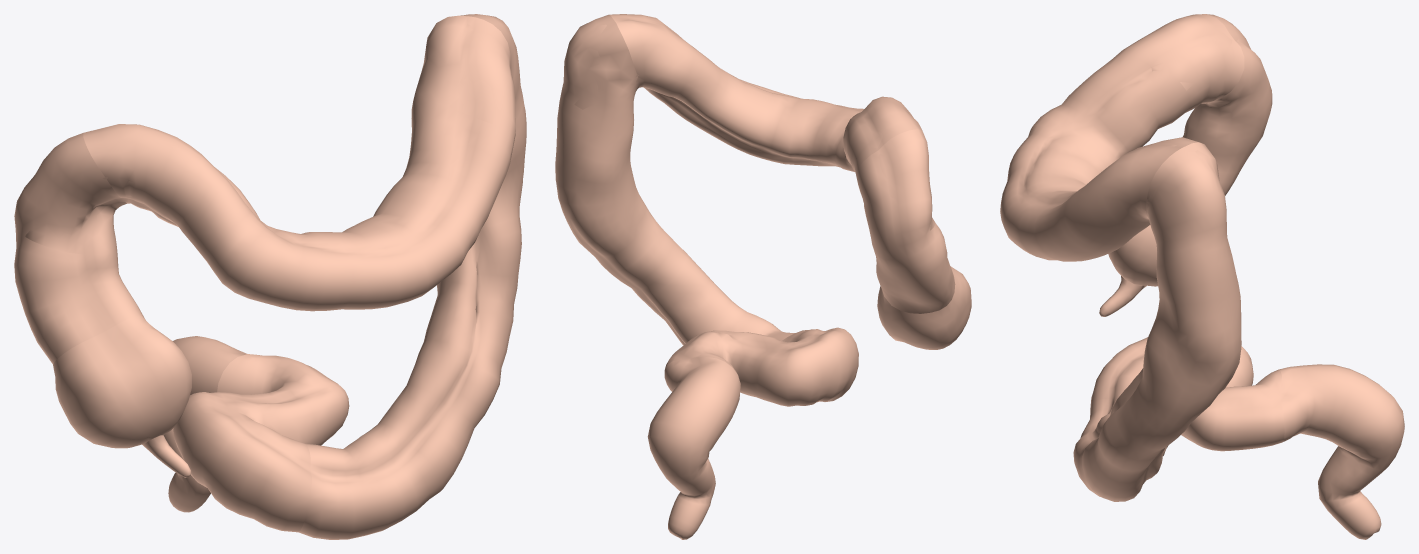
Rendered from SBU_F_Intestine_Large.glb.
3 views of the same model, side by side, from view 1: azimuth 30°, elevation 25°; view 2: azimuth 150°, elevation 25°; view 3: azimuth 270°, elevation 25° (orthographic). The views are drawn at different scales.
Visible parts, largest first — view 1: VHF_transverse_colon, VHF_descending_colon, VHF_sigmoid_colon, VHF_ascending_colon, VHF_caecum, VHF_rectum, VHF_hepatic_flexture_of_colon, VHF_splenic_flexure_of_colon, VHF_vermiform_appendix; view 2: VHF_descending_colon, VHF_transverse_colon, VHF_ascending_colon, VHF_rectum, VHF_sigmoid_colon, VHF_caecum, VHF_splenic_flexure_of_colon, VHF_hepatic_flexture_of_colon; view 3: VHF_transverse_colon, VHF_descending_colon, VHF_rectum, VHF_sigmoid_colon, VHF_ascending_colon, VHF_caecum, VHF_vermiform_appendix, VHF_hepatic_flexture_of_colon, VHF_splenic_flexure_of_colon.
Part boxes in pixels (x1,y1,x2,y2): VHF_transverse_colon: (83, 15, 515, 311); VHF_descending_colon: (298, 14, 526, 539); VHF_sigmoid_colon: (173, 354, 349, 532); VHF_ascending_colon: (14, 133, 144, 363); VHF_caecum: (53, 315, 191, 448); VHF_rectum: (163, 336, 246, 512); VHF_hepatic_flexture_of_colon: (25, 167, 170, 254); VHF_splenic_flexure_of_colon: (435, 14, 520, 123); VHF_vermiform_appendix: (142, 435, 190, 477); VHF_descending_colon: (555, 14, 794, 345); VHF_transverse_colon: (609, 14, 922, 172); VHF_ascending_colon: (855, 129, 955, 313); VHF_rectum: (647, 357, 740, 539); VHF_sigmoid_colon: (665, 327, 858, 406); VHF_caecum: (877, 266, 971, 349); VHF_splenic_flexure_of_colon: (574, 17, 682, 109); VHF_hepatic_flexture_of_colon: (843, 113, 935, 230); VHF_transverse_colon: (1000, 14, 1244, 261); VHF_descending_colon: (1073, 142, 1241, 501); VHF_rectum: (1278, 364, 1404, 539); VHF_sigmoid_colon: (1090, 337, 1284, 451); VHF_ascending_colon: (1182, 14, 1272, 195); VHF_caecum: (1108, 225, 1157, 286); VHF_vermiform_appendix: (1099, 276, 1146, 316); VHF_hepatic_flexture_of_colon: (1151, 30, 1262, 123); VHF_splenic_flexure_of_colon: (1096, 144, 1227, 249).
Size of the model in its own units: 0.2588 by 0.2658 by 0.2058.
